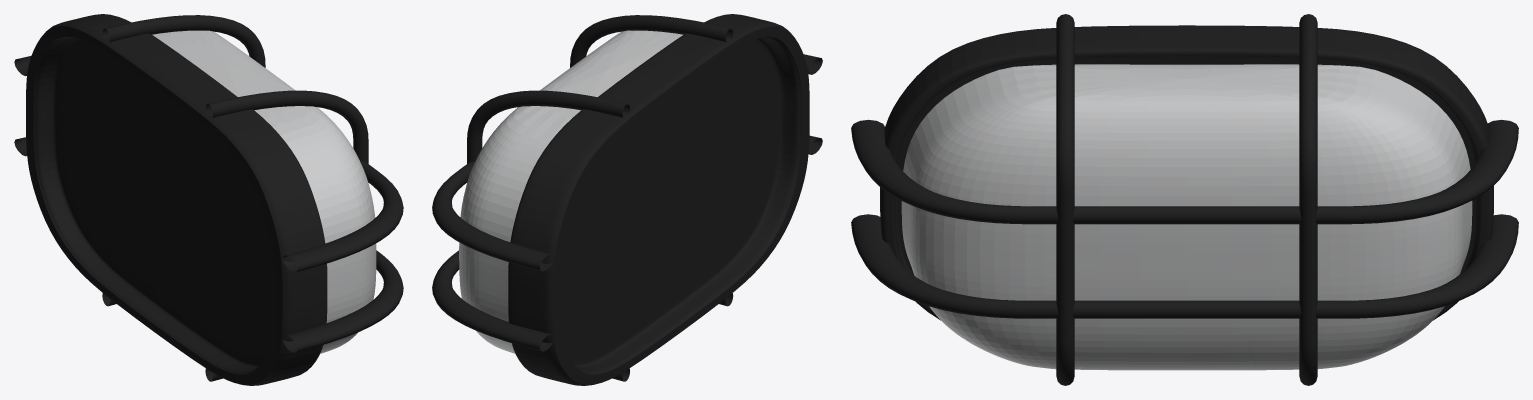
File: Light.fbx
The picture shows the model from 3 angles, left to right: view 1: azimuth 30°, elevation 25°; view 2: azimuth 150°, elevation 25°; view 3: azimuth 270°, elevation 25°; orthographic projection. The views are drawn at different scales.
Visible parts, largest first — view 1: back_support, Light_cover, Lines1, Lines2; view 2: back_support, Light_cover, Lines1, Lines2; view 3: Light_cover, Lines1, back_support, Lines2.
Boxes of the visible parts, x1=… form: back_support: x1=26, y1=14, x2=327, y2=385; Light_cover: x1=152, y1=30, x2=376, y2=353; Lines1: x1=14, y1=56, x2=403, y2=352; Lines2: x1=102, y1=15, x2=368, y2=381; back_support: x1=508, y1=14, x2=809, y2=385; Light_cover: x1=459, y1=30, x2=683, y2=353; Lines1: x1=432, y1=54, x2=822, y2=351; Lines2: x1=467, y1=15, x2=733, y2=381; Light_cover: x1=901, y1=64, x2=1472, y2=370; Lines1: x1=851, y1=119, x2=1518, y2=318; back_support: x1=880, y1=25, x2=1493, y2=320; Lines2: x1=1056, y1=14, x2=1317, y2=385.
Bounding box in the file's own units: 3.19 × 5.2 × 9.64.
Materials: 3 (3 with a texture image).
